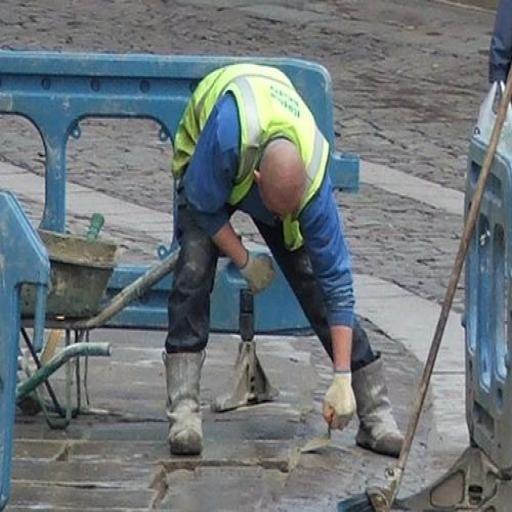safety_boots: (161, 348, 226, 466), (352, 358, 415, 462)
